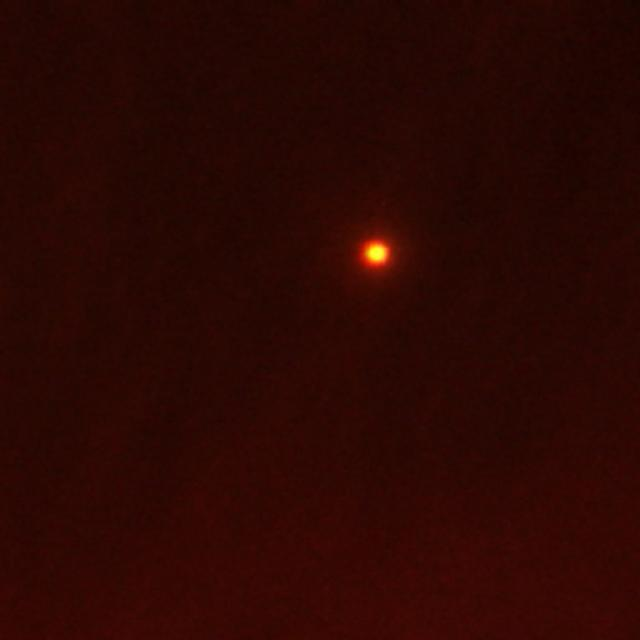Fragment: (365, 242, 389, 264)
